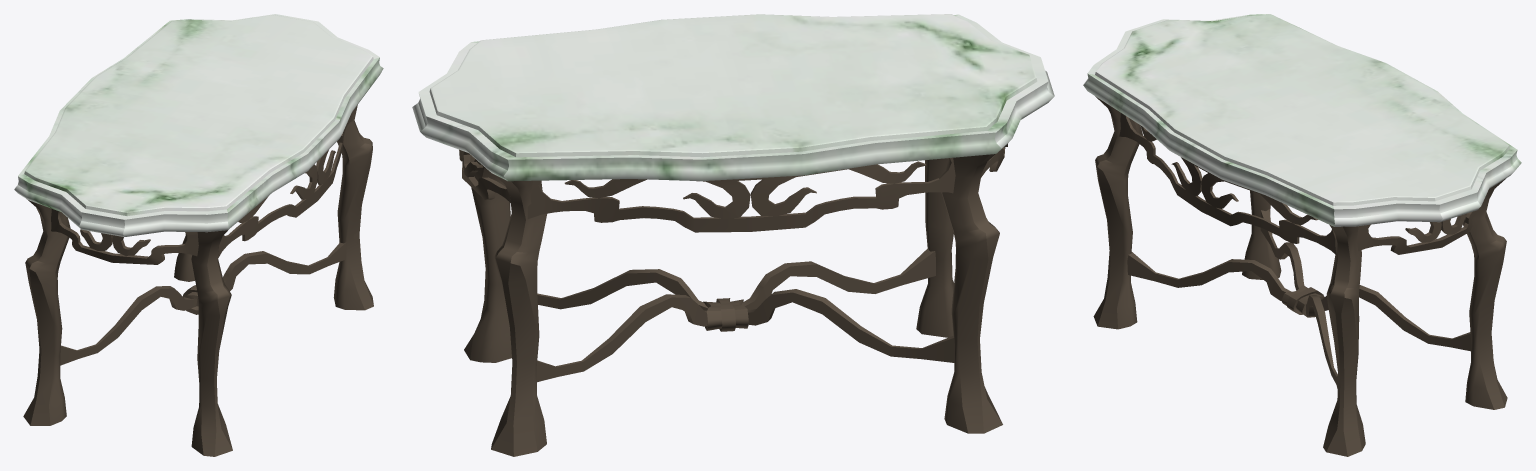
File: table_basse.fbx
The picture shows the model from 3 angles, left to right: view 1: azimuth 30°, elevation 25°; view 2: azimuth 150°, elevation 25°; view 3: azimuth 270°, elevation 25°; orthographic projection. The views are drawn at different scales.
Visible parts, largest first — view 1: table_basse; view 2: table_basse; view 3: table_basse.
Part boxes in pixels (box(x1,y1,x2,y2)): table_basse: box(14, 14, 383, 456); table_basse: box(412, 14, 1054, 456); table_basse: box(1083, 14, 1521, 456).
Size of the model in its own units: 0.6886 by 0.4058 by 0.641.
